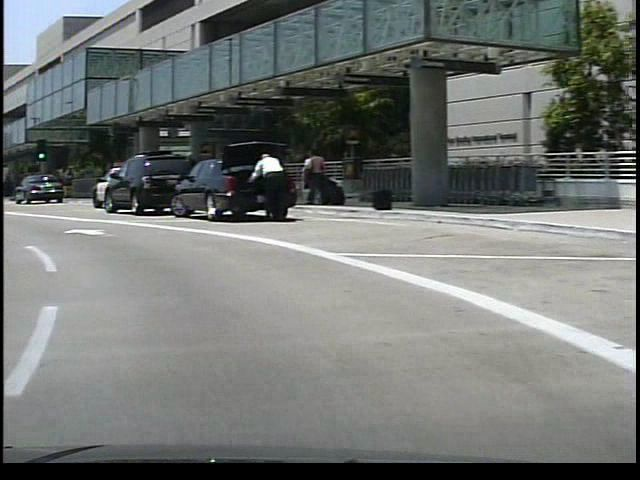person: (243, 151, 288, 228), (302, 149, 323, 210), (295, 148, 314, 210)
